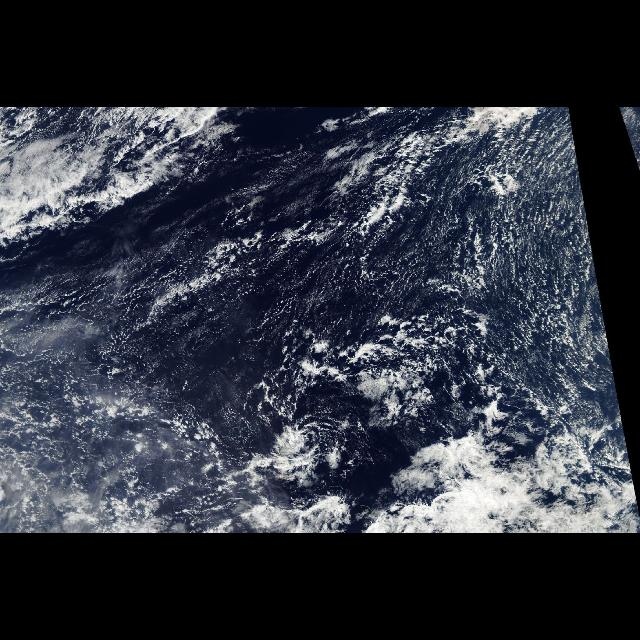Fish: (9, 111, 282, 282)
Gravel: (376, 134, 620, 404)
Sugar: (487, 124, 613, 416)
